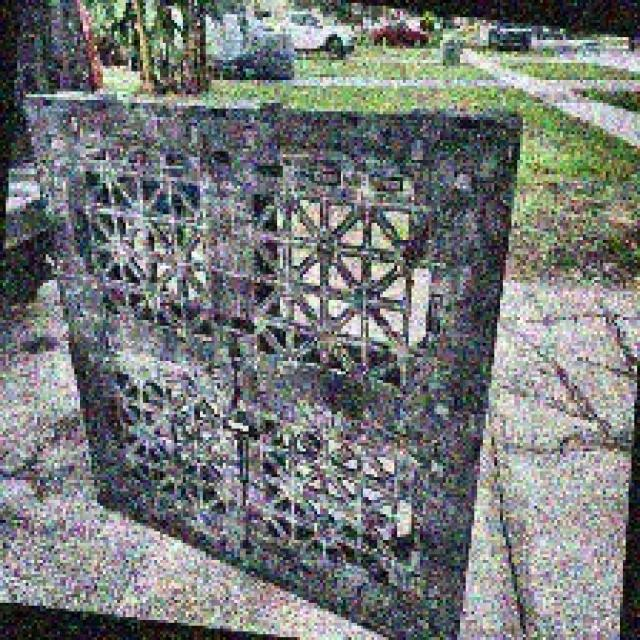igps: (13, 73, 535, 640)
